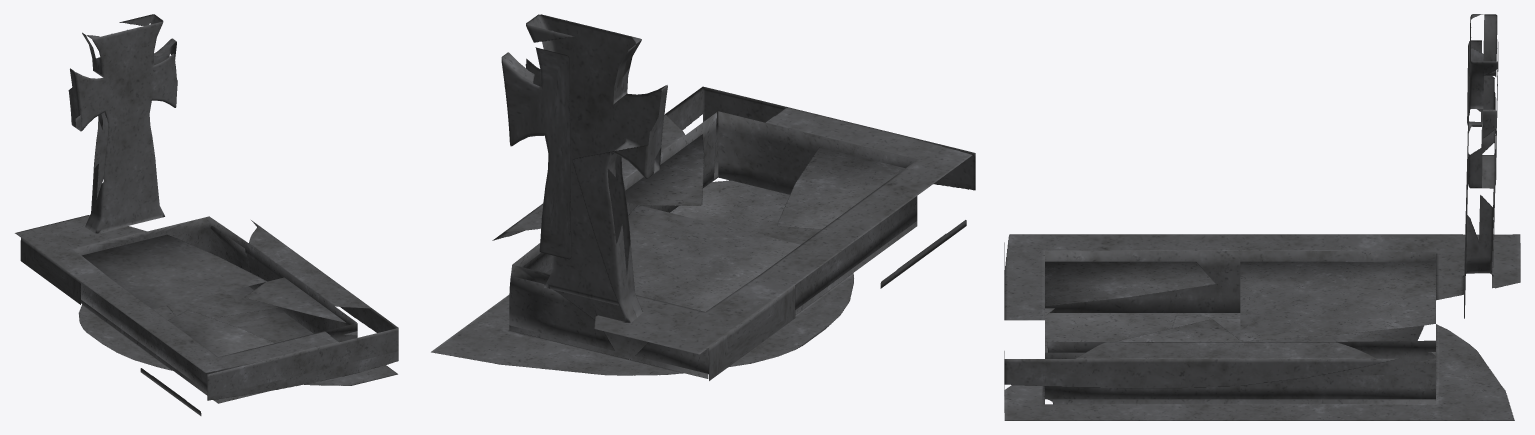
File: grave_06.fbx
3 views of the same model, side by side, from view 1: azimuth 30°, elevation 25°; view 2: azimuth 150°, elevation 25°; view 3: azimuth 270°, elevation 25° (orthographic). The views are drawn at different scales.
Visible parts, largest first — view 1: grave.005; view 2: grave.005; view 3: grave.005.
Part boxes in pixels (left/top/right/bottom): grave.005: left=15, top=14, right=398, bottom=415; grave.005: left=431, top=14, right=975, bottom=380; grave.005: left=1004, top=14, right=1520, bottom=420.
Bounding box in the file's own units: 201 × 241 × 351.
